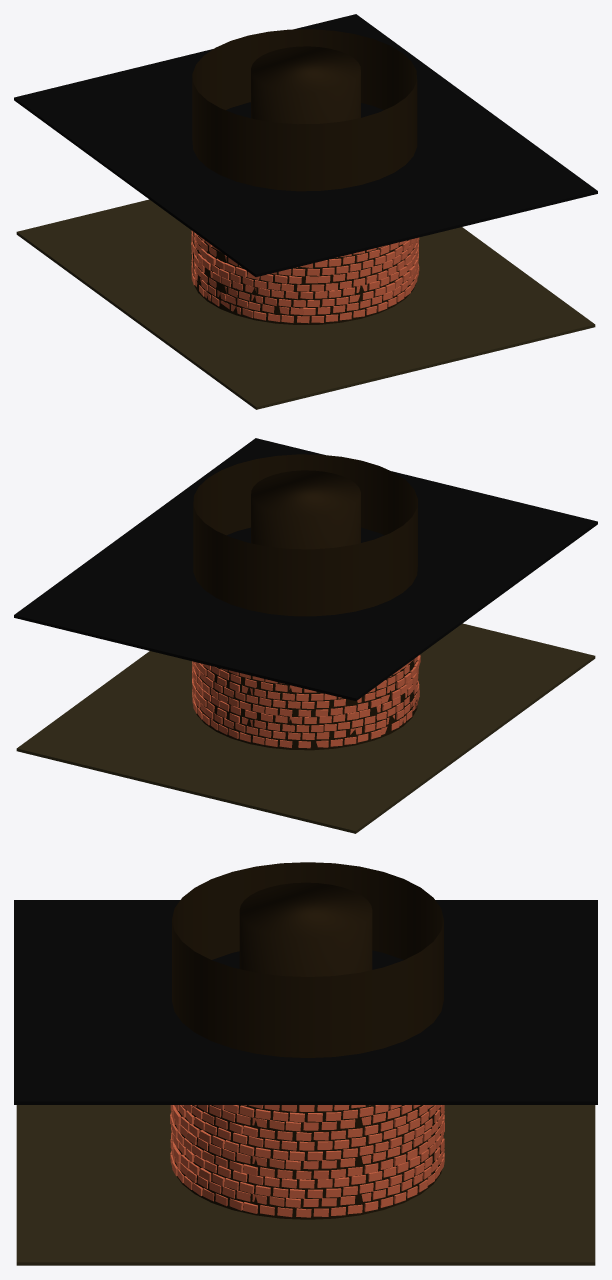
File: undergroundmusic.glb
3 views of the same model, one above another, from view 1: azimuth 30°, elevation 25°; view 2: azimuth 150°, elevation 25°; view 3: azimuth 270°, elevation 25° (orthographic). The views are drawn at different scales.
Parts seen in each view (by area): view 1: top, bottom, Cylinder.001, Cylinder; view 2: top, bottom, Cylinder.001, Cylinder; view 3: top, bottom, Cylinder.001, Cylinder.
Part boxes in pixels (box(x1,y1,x2,y2)): top: box(14, 14, 597, 276); bottom: box(16, 199, 595, 409); Cylinder.001: box(192, 29, 417, 324); Cylinder: box(251, 46, 360, 124); top: box(14, 438, 597, 700); bottom: box(16, 623, 595, 833); Cylinder.001: box(193, 454, 417, 750); Cylinder: box(251, 470, 360, 549); top: box(14, 900, 597, 1104); bottom: box(16, 1105, 595, 1265); Cylinder.001: box(172, 862, 443, 1219); Cylinder: box(239, 882, 372, 976).
Size of the model in its own units: 156 by 110 by 191.
